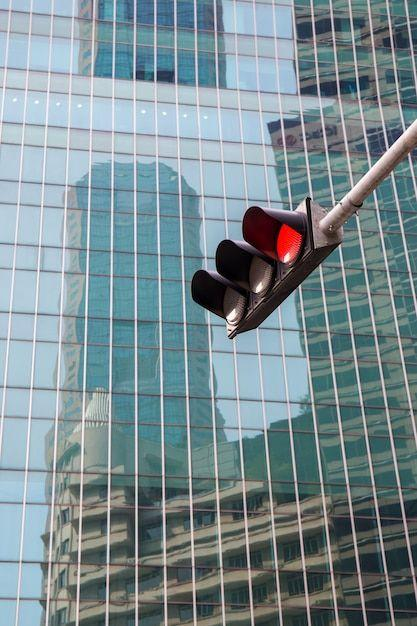red: (158, 203, 368, 332)
